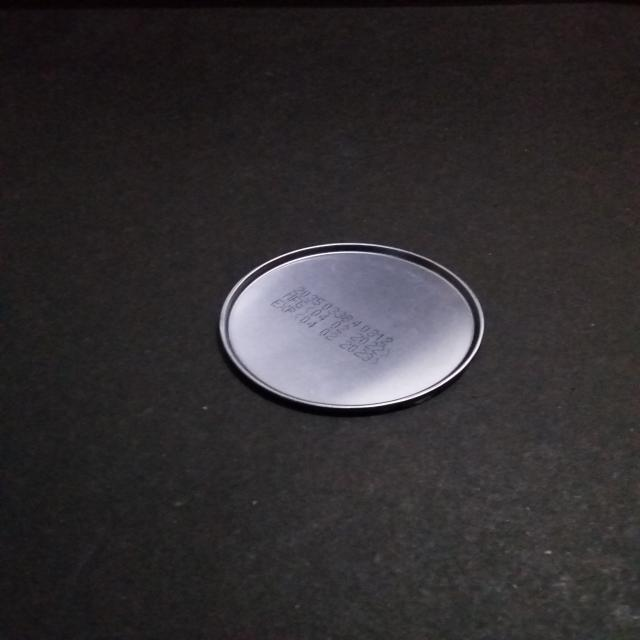metal-can: (215, 236, 487, 416)
